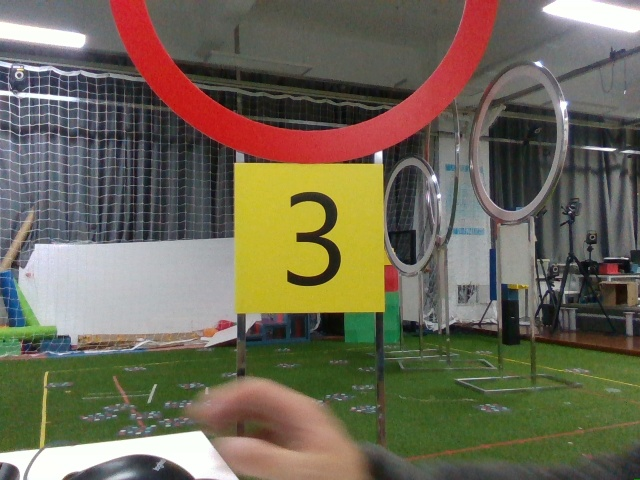target: (236, 162, 382, 310)
